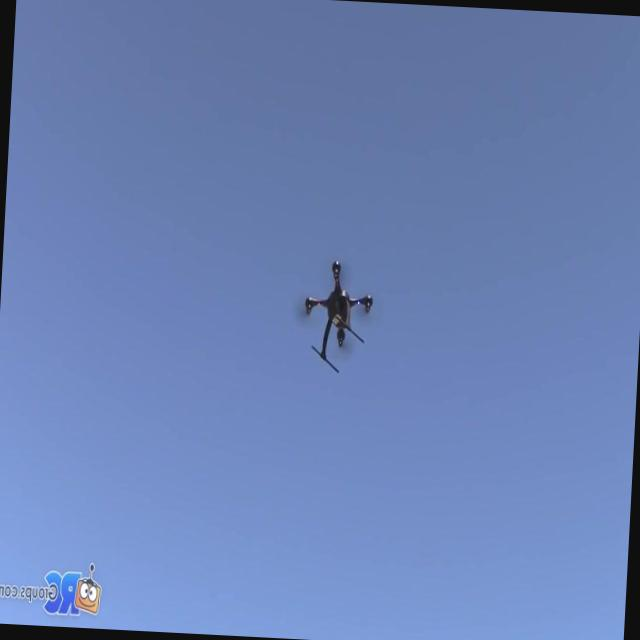drone: (302, 256, 376, 381)
